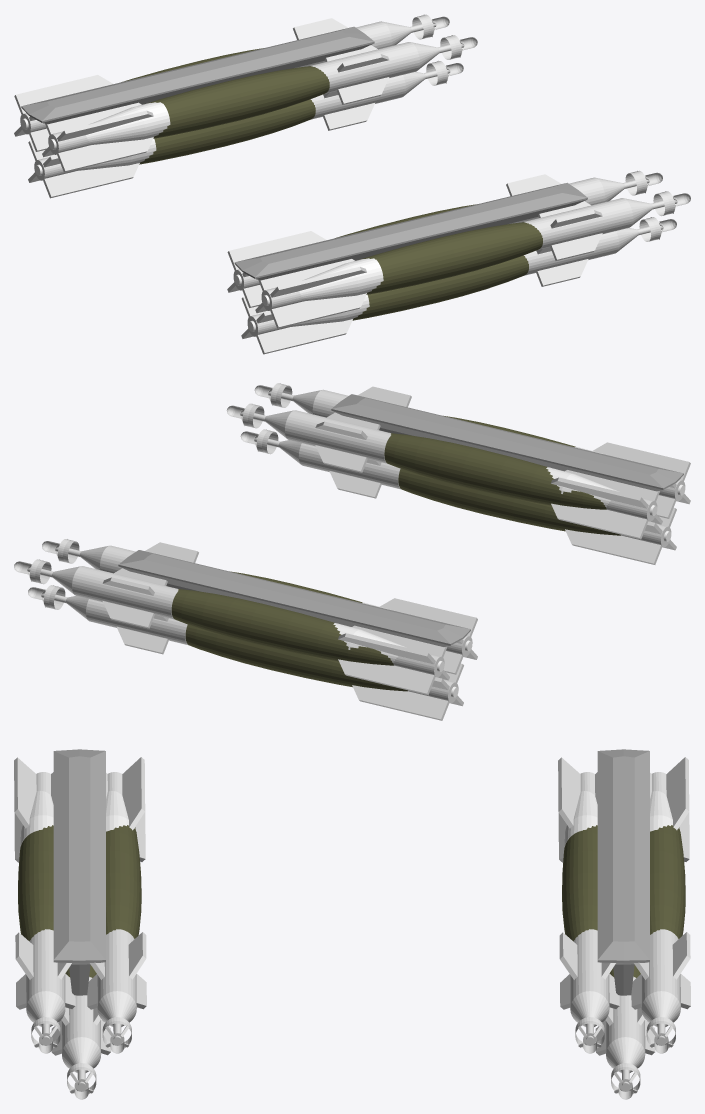
Rendered from a10cgbu1247.glb.
3 renders of one model, top to bottom at view 1: azimuth 30°, elevation 25°; view 2: azimuth 150°, elevation 25°; view 3: azimuth 270°, elevation 25°, orthographic. The views are drawn at different scales.
Parts seen in each view (by area): view 1: 円柱.020, 円柱.023, 円柱.024, 円柱.021, 立方体.008, 立方体.007, 円柱.025, 円柱.022; view 2: 円柱.022, 円柱.025, 円柱.021, 円柱.024, 立方体.007, 立方体.008, 円柱.020, 円柱.023; view 3: 立方体.007, 立方体.008, 円柱.025, 円柱.022, 円柱.020, 円柱.023, 円柱.021, 円柱.024.
Part boxes in pixels (x1=…): 円柱.020: x1=255, y1=191, x2=690, y2=328; 円柱.023: x1=42, y1=35, x2=477, y2=172; 円柱.024: x1=28, y1=61, x2=463, y2=198; 円柱.021: x1=241, y1=217, x2=676, y2=354; 立方体.008: x1=21, y1=26, x2=374, y2=124; 立方体.007: x1=234, y1=182, x2=587, y2=280; 円柱.025: x1=14, y1=14, x2=449, y2=151; 円柱.022: x1=227, y1=170, x2=662, y2=307; 円柱.022: x1=226, y1=403, x2=662, y2=539; 円柱.025: x1=14, y1=559, x2=449, y2=695; 円柱.021: x1=240, y1=429, x2=676, y2=564; 円柱.024: x1=28, y1=585, x2=463, y2=720; 立方体.007: x1=331, y1=394, x2=683, y2=491; 立方体.008: x1=118, y1=550, x2=470, y2=646; 円柱.020: x1=254, y1=383, x2=690, y2=518; 円柱.023: x1=42, y1=539, x2=477, y2=674; 立方体.007: x1=53, y1=749, x2=105, y2=995; 立方体.008: x1=597, y1=749, x2=649, y2=995; 円柱.025: x1=631, y1=757, x2=690, y2=1053; 円柱.022: x1=87, y1=757, x2=146, y2=1053; 円柱.020: x1=14, y1=757, x2=75, y2=1053; 円柱.023: x1=558, y1=757, x2=619, y2=1053; 円柱.021: x1=51, y1=965, x2=111, y2=1099; 円柱.024: x1=595, y1=965, x2=655, y2=1099.
Size of the model in its own units: 3.76 by 0.699 by 3.97.
4 materials, 1 textured.
